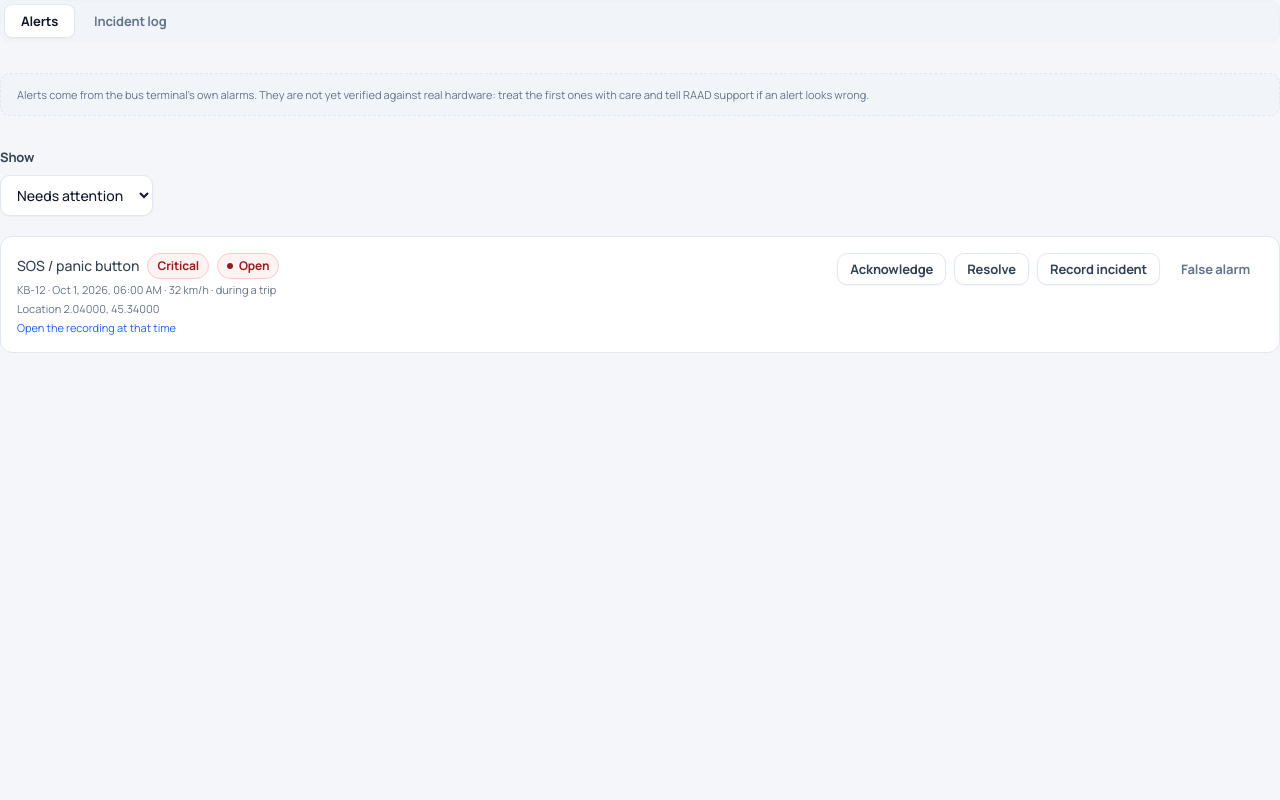
Test: SafetyPage › turns an alert into an incident and opens it
Click the button "Record incident".
click(1099, 269)  # box [1037,253,1160,285]
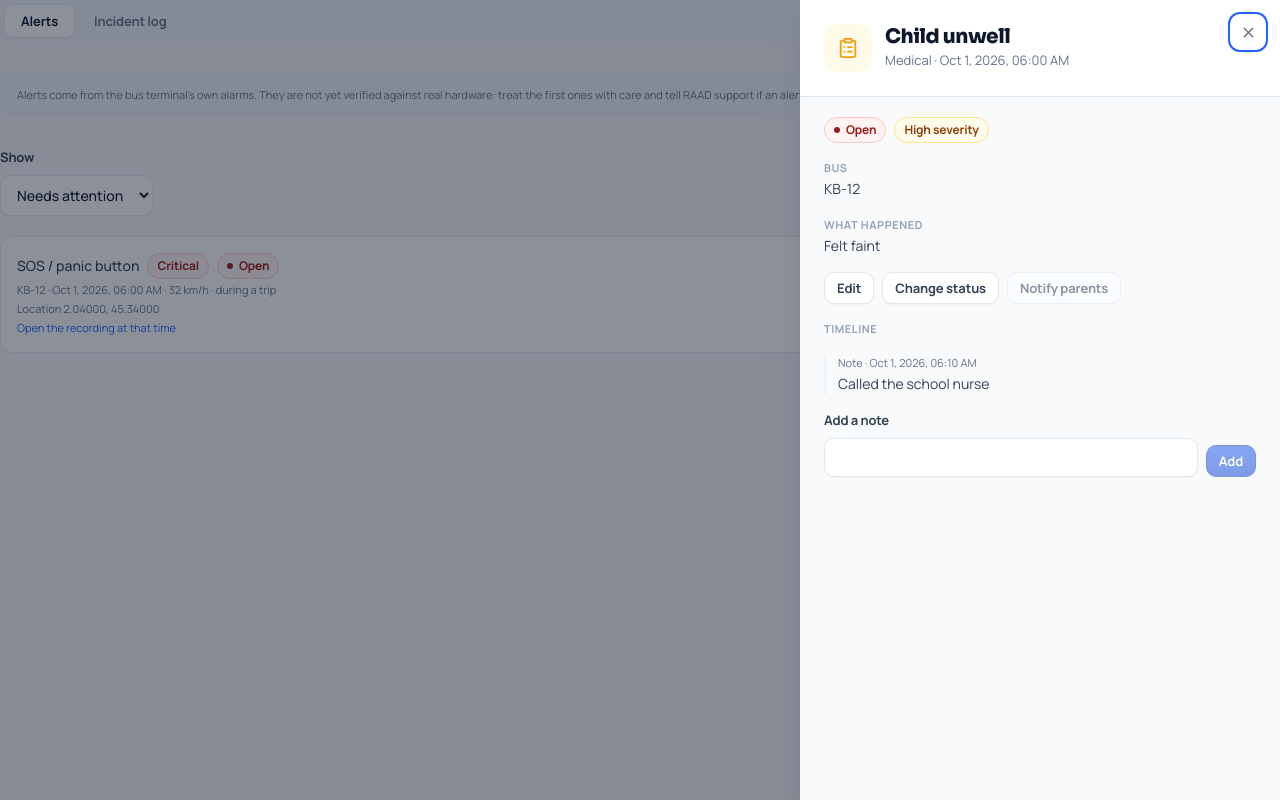
Check: the text "Called the school nurse" is shown, box [838,374,990,393]
